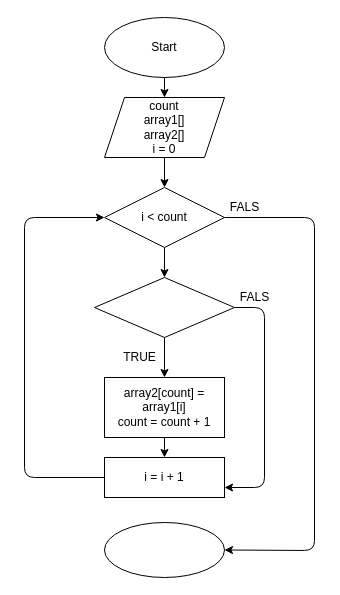
The diagram is 340 pixels wide and 595 high, and some of its shapes have lost their labels. The shapes that lost their labels are listed below. From the top down, each one's centre as x and y in pixels, then its label:
At point (164, 307): "array1[i].length <= 3".
At point (164, 550): "End".
